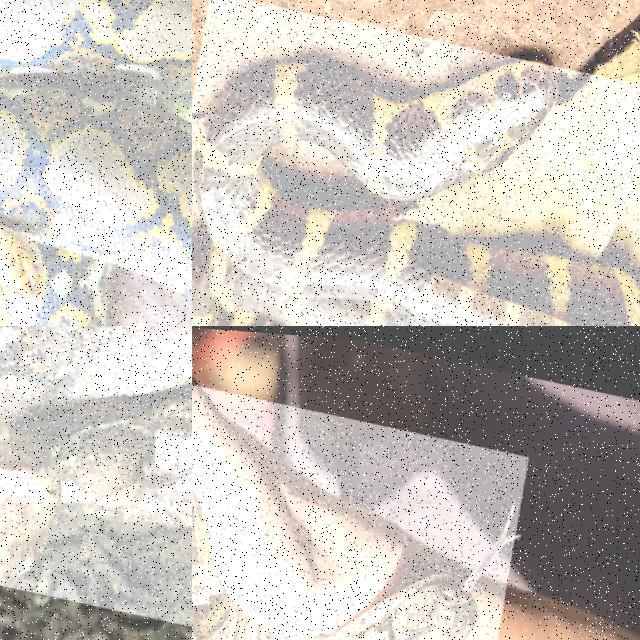Bungarus fasciatus: (192, 61, 639, 325)
Malayopython reticulatus: (0, 0, 191, 325), (0, 405, 191, 580)
Python bivittatus: (309, 527, 509, 639)
snake: (192, 61, 639, 325), (0, 0, 191, 325), (0, 405, 191, 580), (309, 527, 509, 639)
